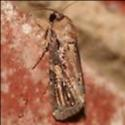army worm adult: (32, 1, 89, 124)
